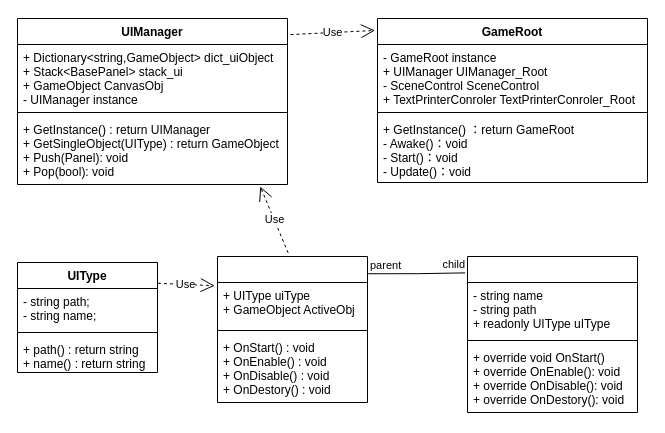
The diagram is 665 pixels wide and 433 high, and some of its shapes have lost their labels. Each missing label, with the box of its shape:
BasePanel: (216, 256, 368, 402)
Panel1: (466, 256, 638, 412)
